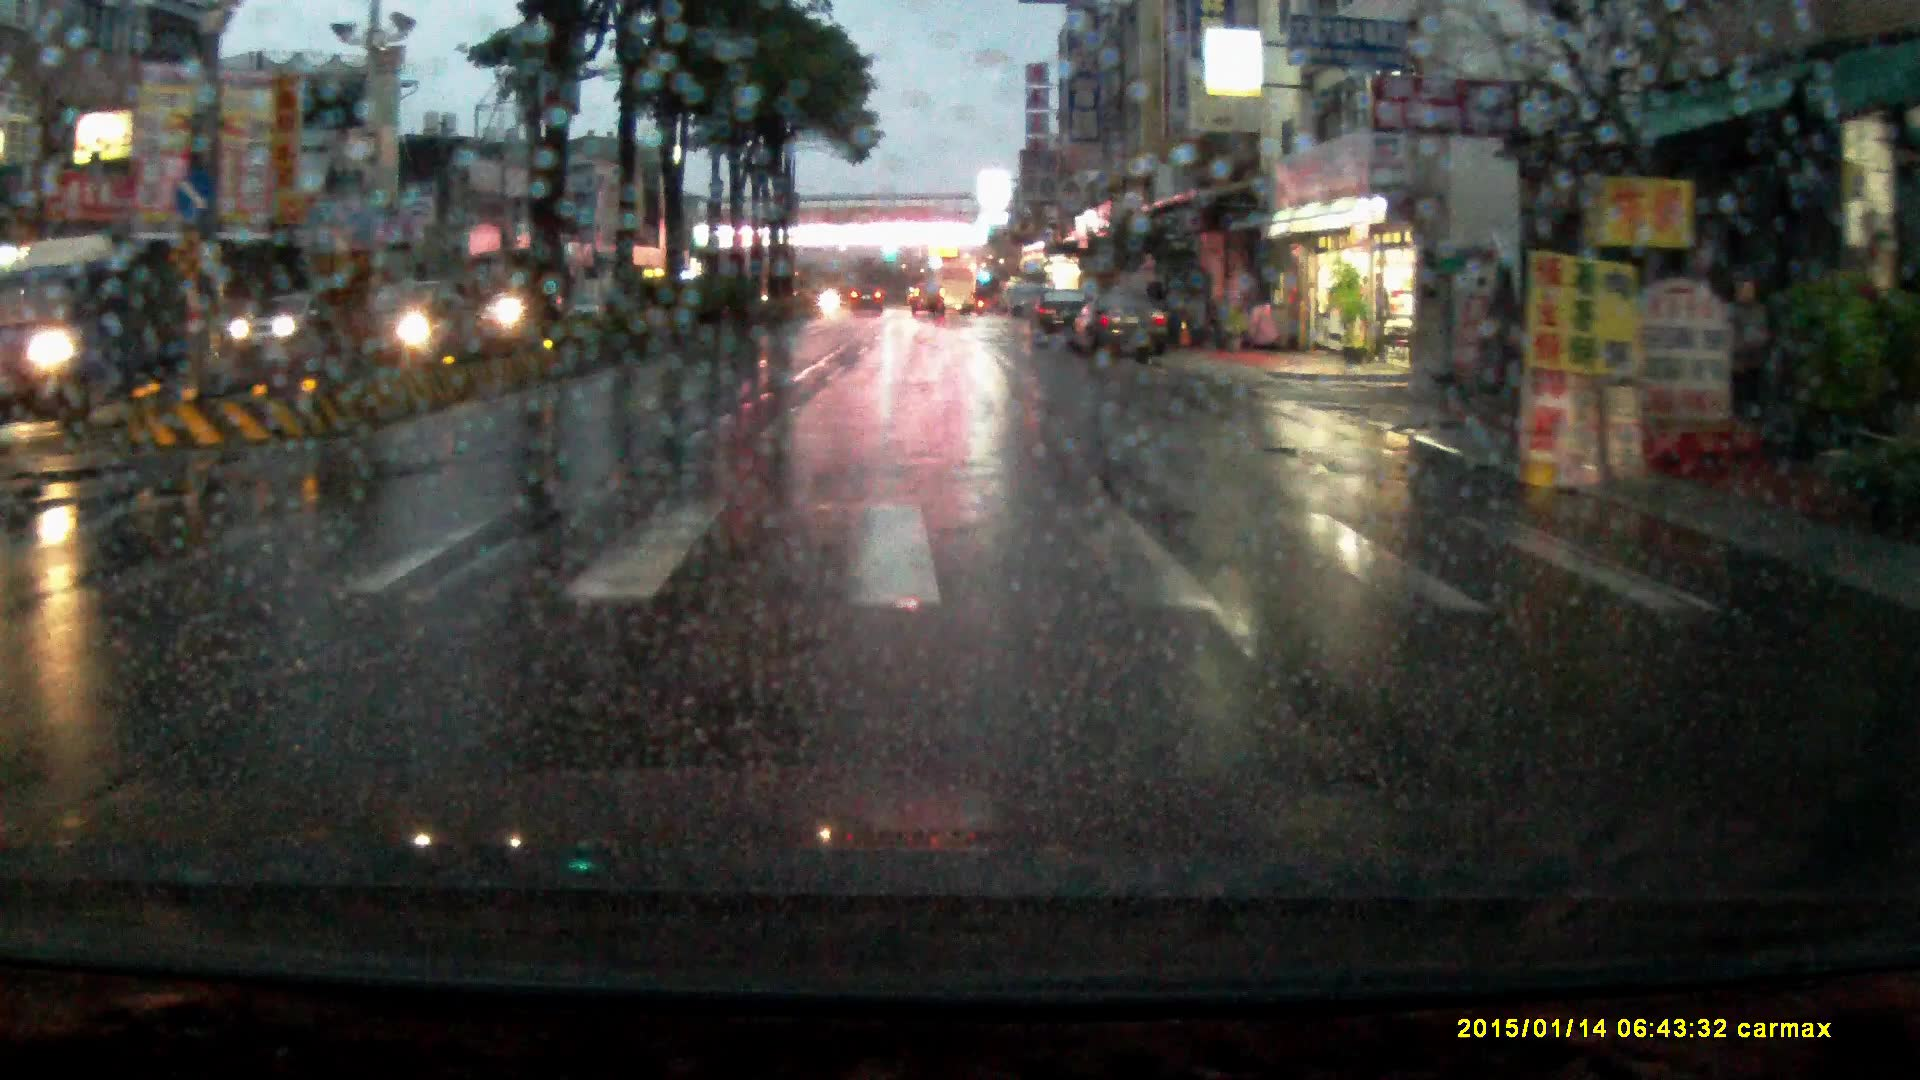rider: (487, 267, 529, 351)
vehicle: (1, 230, 229, 415), (346, 279, 493, 361), (1070, 293, 1173, 367), (232, 294, 341, 363), (1031, 291, 1090, 346), (929, 256, 977, 316), (914, 284, 949, 322), (851, 286, 885, 317)
